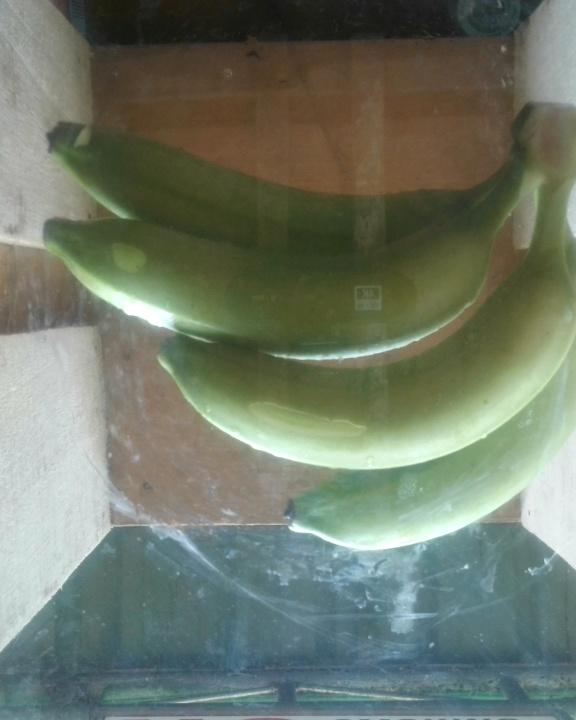SPOT: (11, 101, 576, 555)
